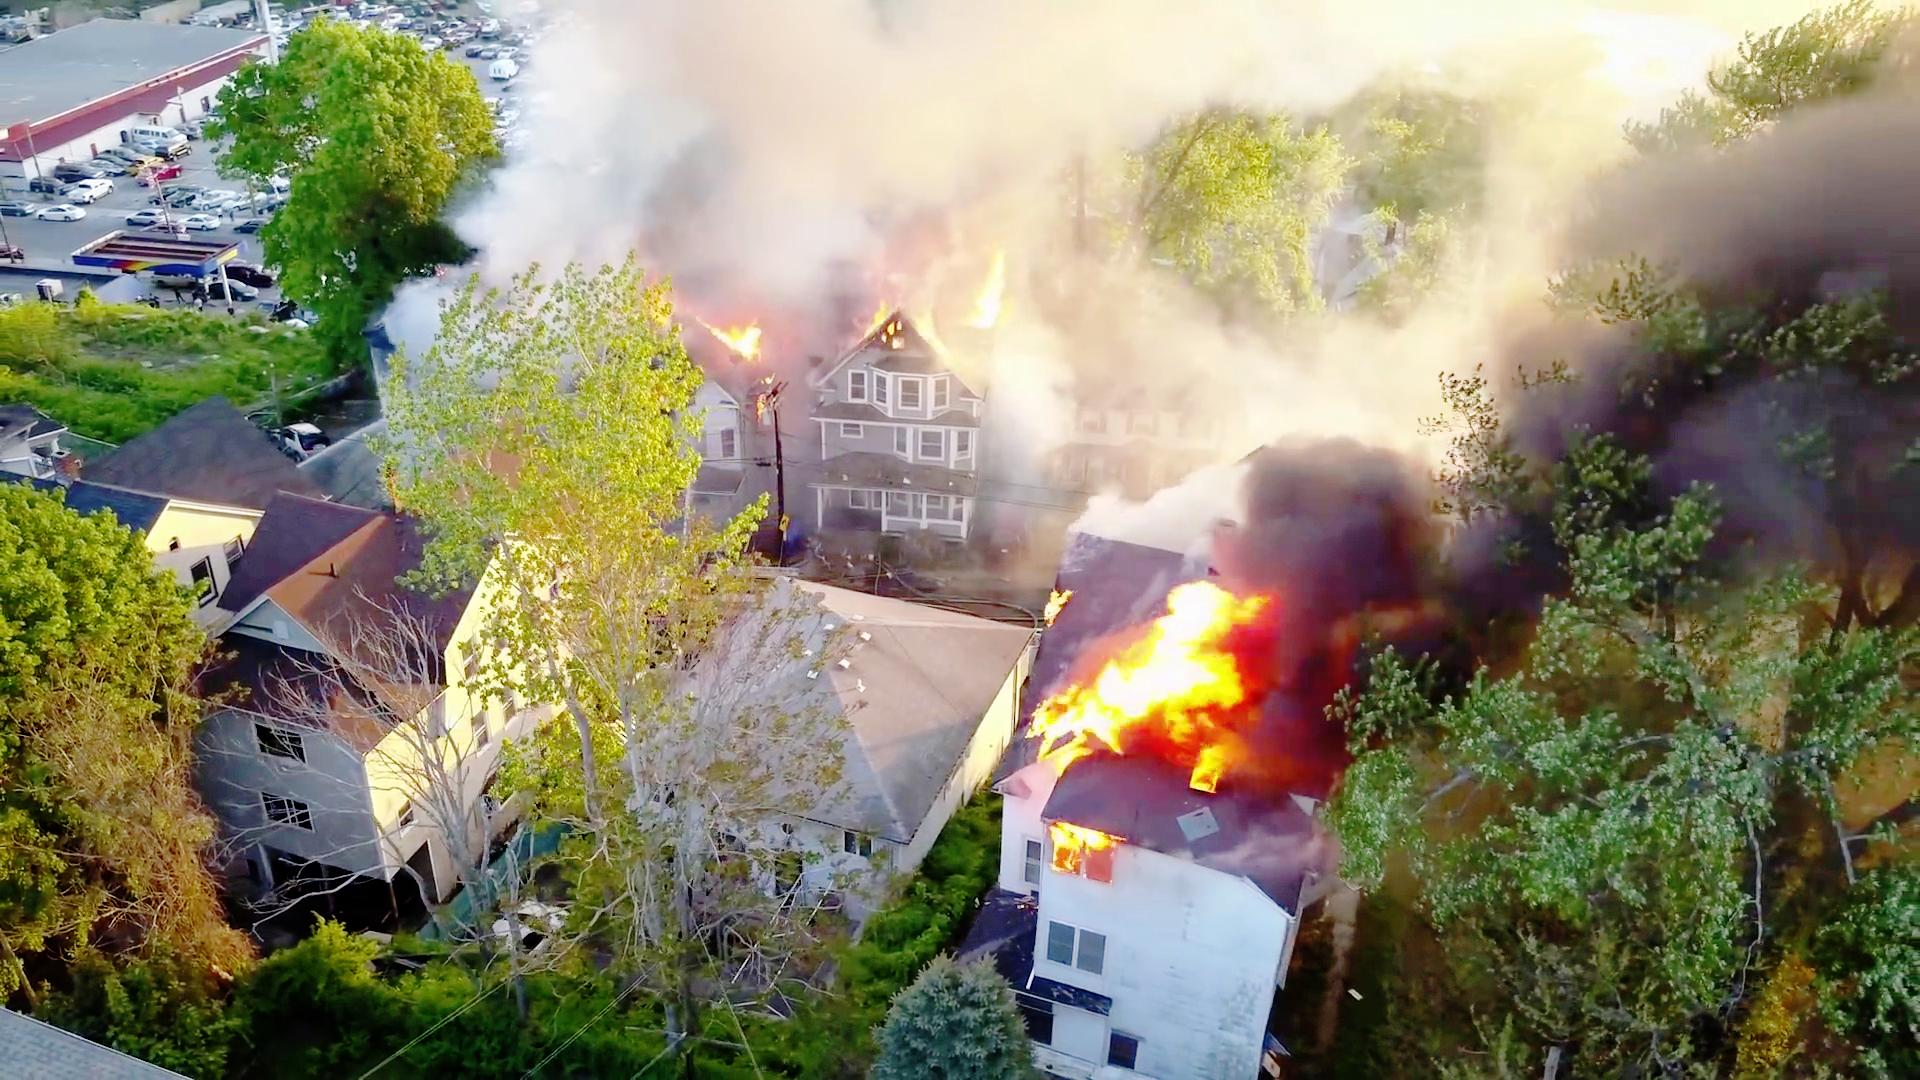fire: (1040, 580, 1246, 749)
